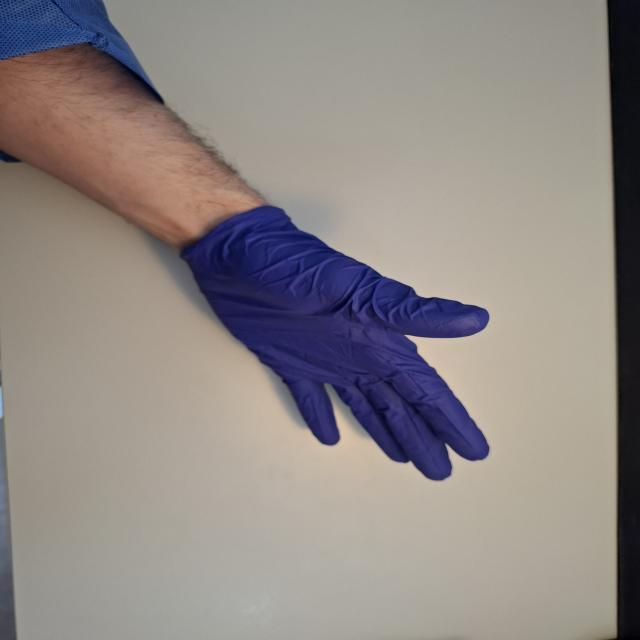glove_on: (178, 201, 494, 485)
